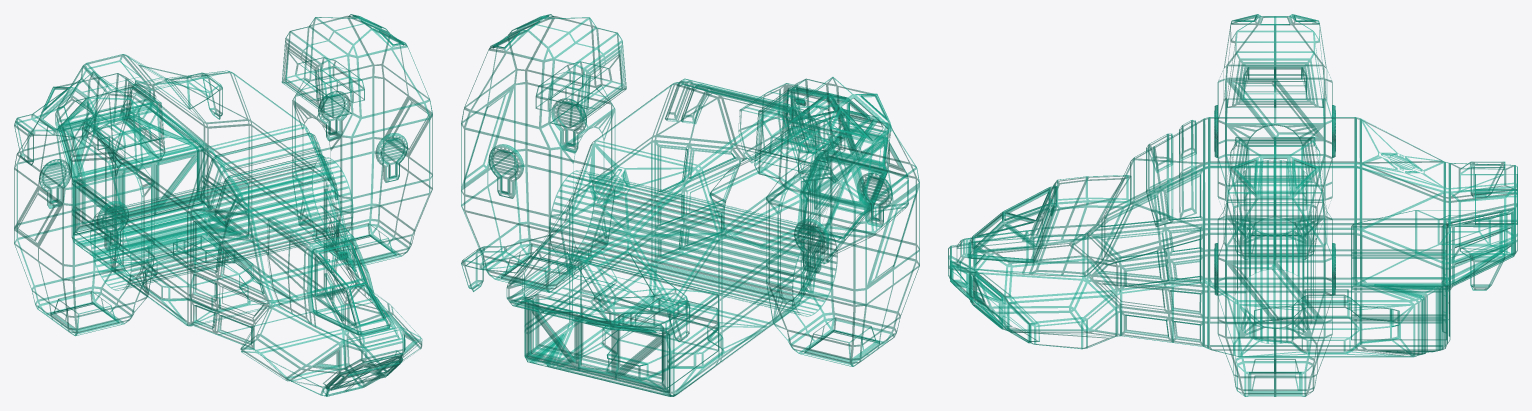
Rendered from Ship Holo 2.fbx.
The picture shows the model from 3 angles, left to right: view 1: azimuth 30°, elevation 25°; view 2: azimuth 150°, elevation 25°; view 3: azimuth 270°, elevation 25°; orthographic projection. The views are drawn at different scales.
Parts seen in each view (by area): view 1: s3d-craft2-proj_13649.Shape; view 2: s3d-craft2-proj_13649.Shape; view 3: s3d-craft2-proj_13649.Shape.
Boxes of the visible parts, <box> form: s3d-craft2-proj_13649.Shape: <box>14,14,432,396</box>; s3d-craft2-proj_13649.Shape: <box>461,14,919,396</box>; s3d-craft2-proj_13649.Shape: <box>948,14,1517,396</box>.
Bounding box in the file's own units: 90.06 × 56.67 × 117.
